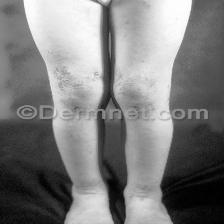Non-Cancerous Skin Condition: (50, 61, 108, 96), (110, 78, 168, 109), (133, 182, 159, 202), (138, 0, 168, 12)
